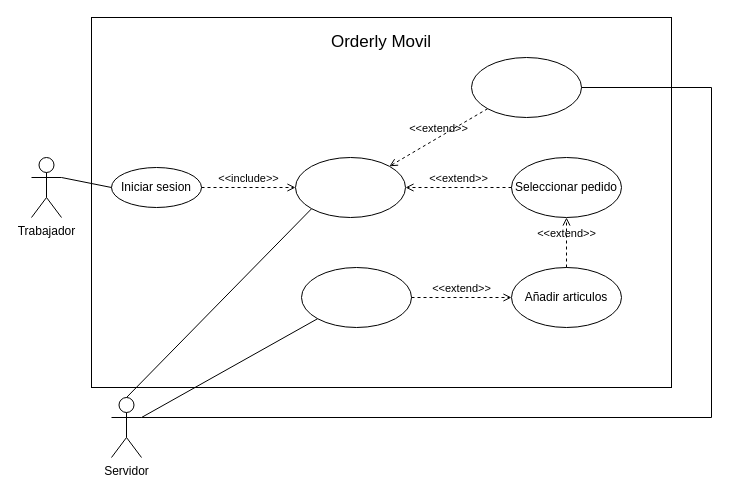
The diagram is 730 pixels wide and 496 high, and some of its shapes have lost their labels. The shapes that lost their labels are listed below. From the top down, each one's centre as x and y in pixels, then its label:
the point at 526,87: Crear pedido
the point at 350,187: Listar mesas/pedidos
the point at 356,297: Grabar
